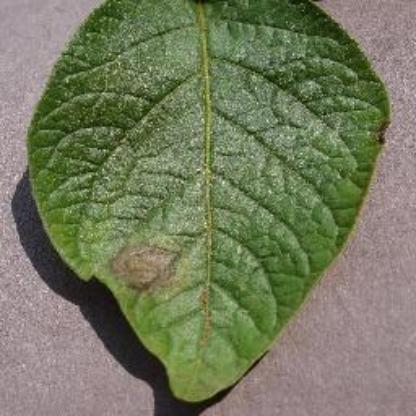Late-Blight: (29, 2, 402, 404)
